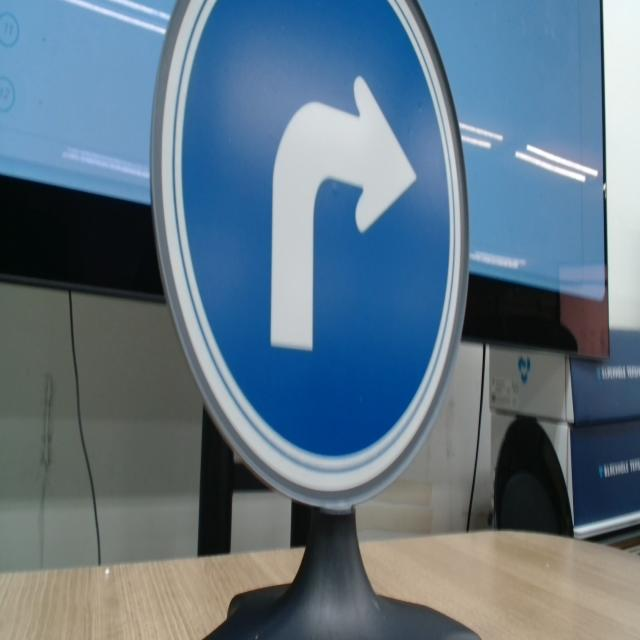right_dierection: (148, 0, 474, 513)
